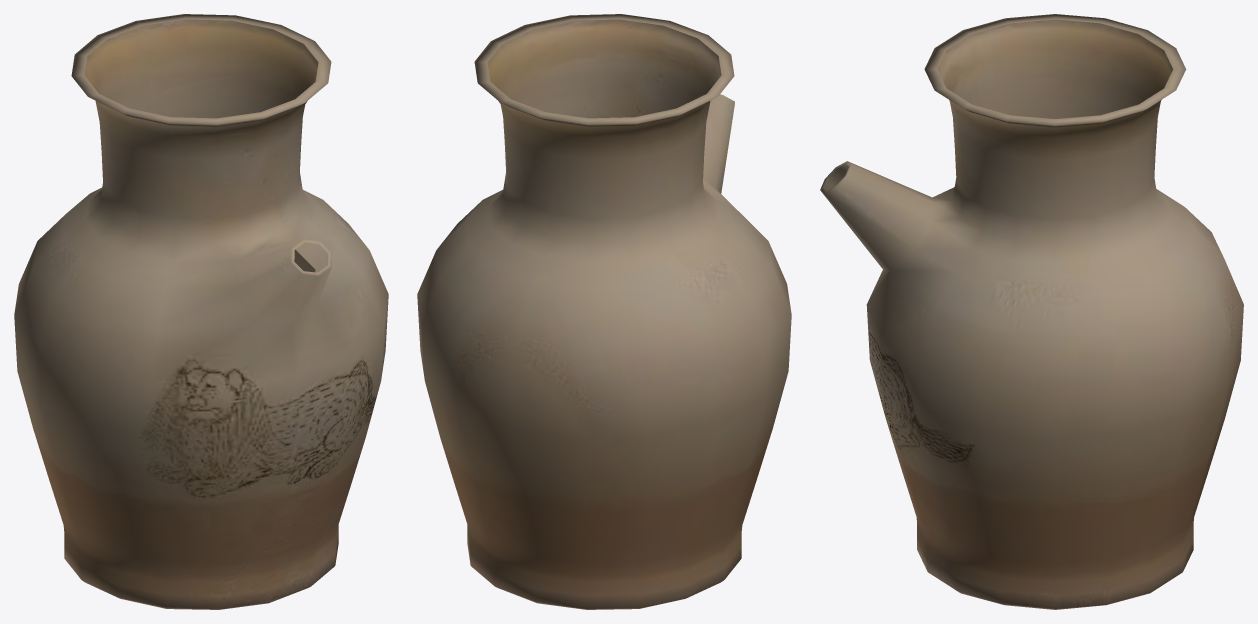
File: artifact_lion.glb
The picture shows the model from 3 angles, left to right: view 1: azimuth 30°, elevation 25°; view 2: azimuth 150°, elevation 25°; view 3: azimuth 270°, elevation 25°; orthographic projection.
Parts seen in each view (by area): view 1: lion; view 2: lion; view 3: lion.
Boxes of the visible parts, box(x1,y1,x2,y2) form: lion: box(14, 14, 388, 609); lion: box(417, 14, 791, 609); lion: box(820, 14, 1243, 609).
Bounding box in the file's own units: 1.48 × 2.09 × 1.66.
Materials: 1 (1 with a texture image).
